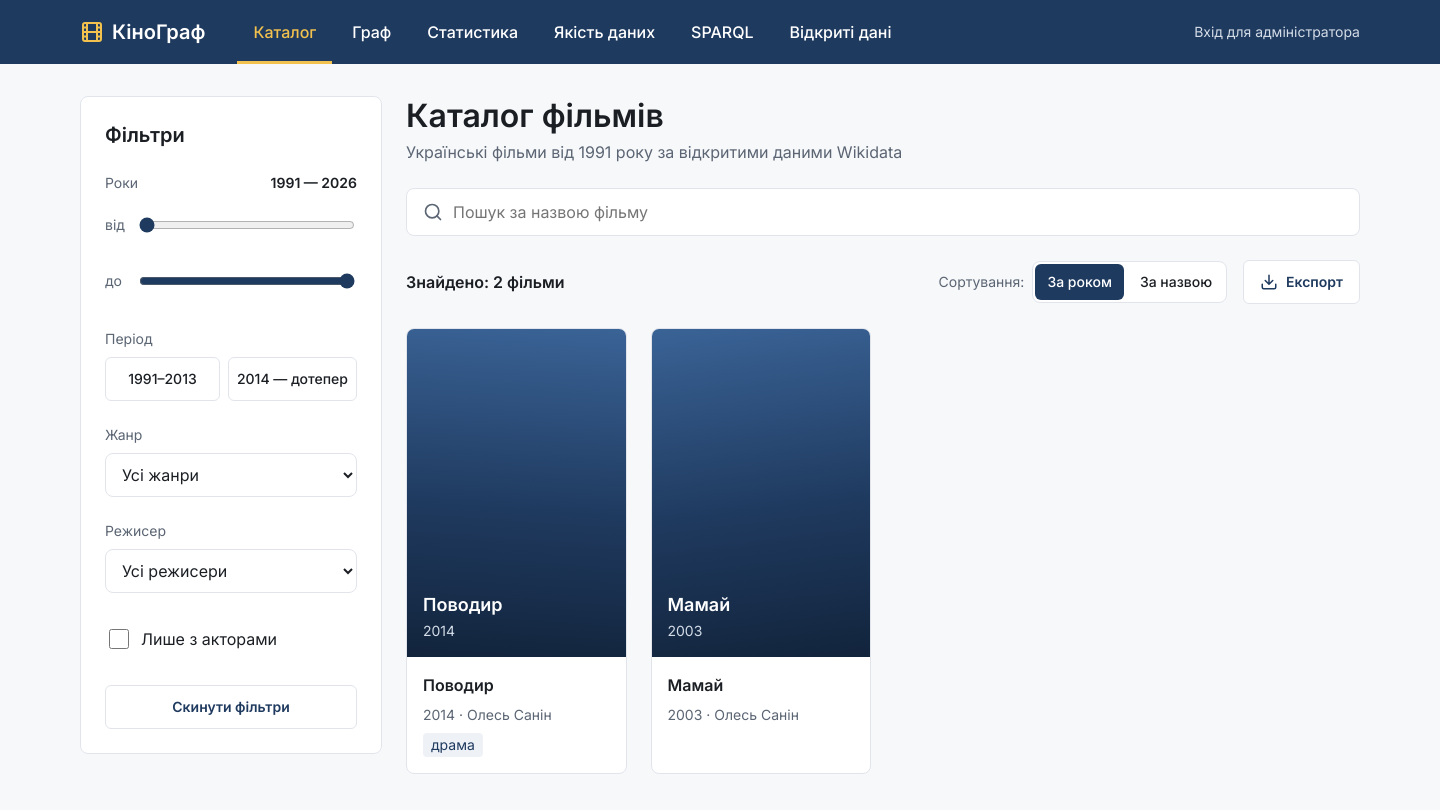
Test case: каталог › експортує результати з поточними фільтрами
The width and height of the screenshot is (1440, 810).
Click the button "Експорт" at (1302, 282), box [1243,260,1360,304]
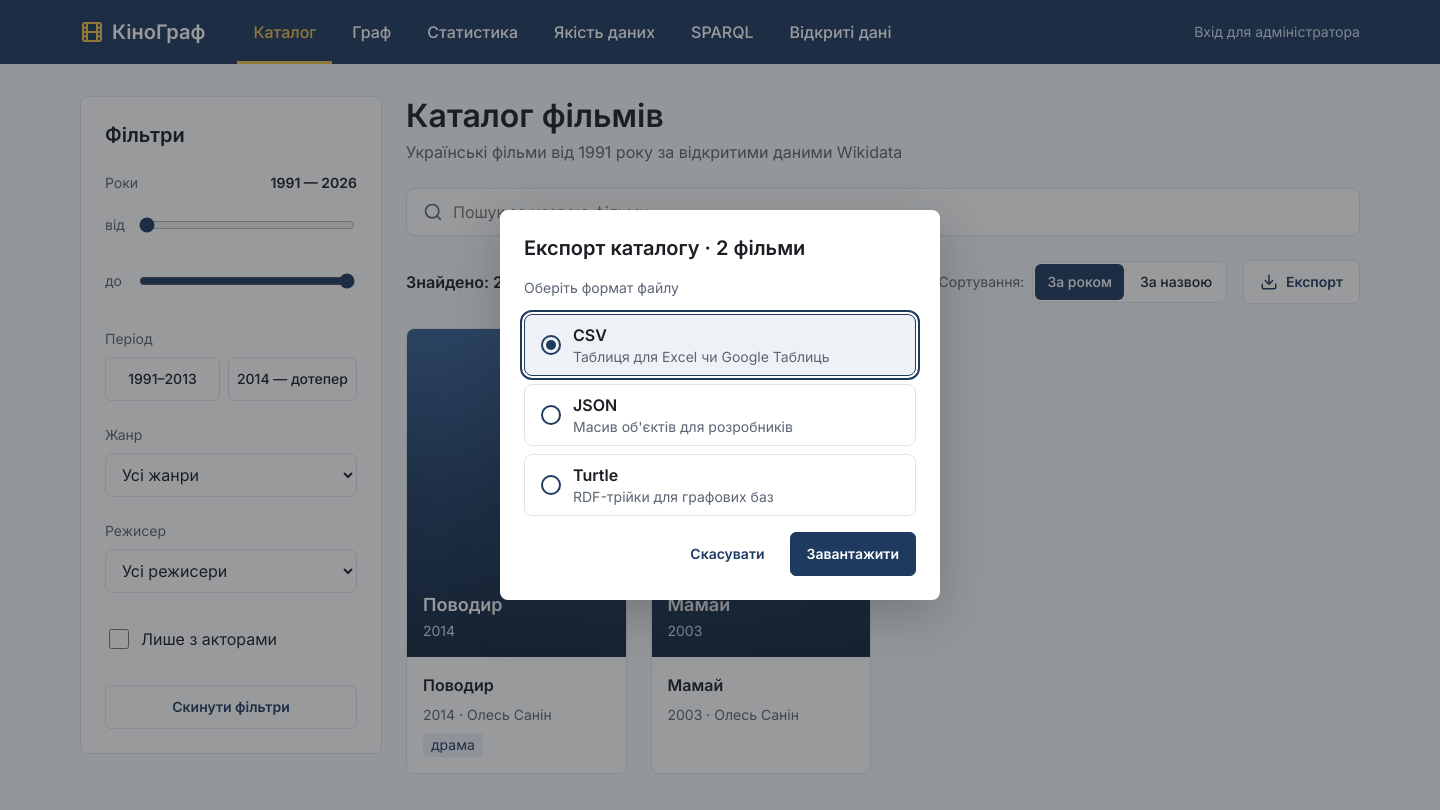
Click the radio button labelled "JSON Масив об'єктів для розробників" at (720, 415), box [524,384,916,446]
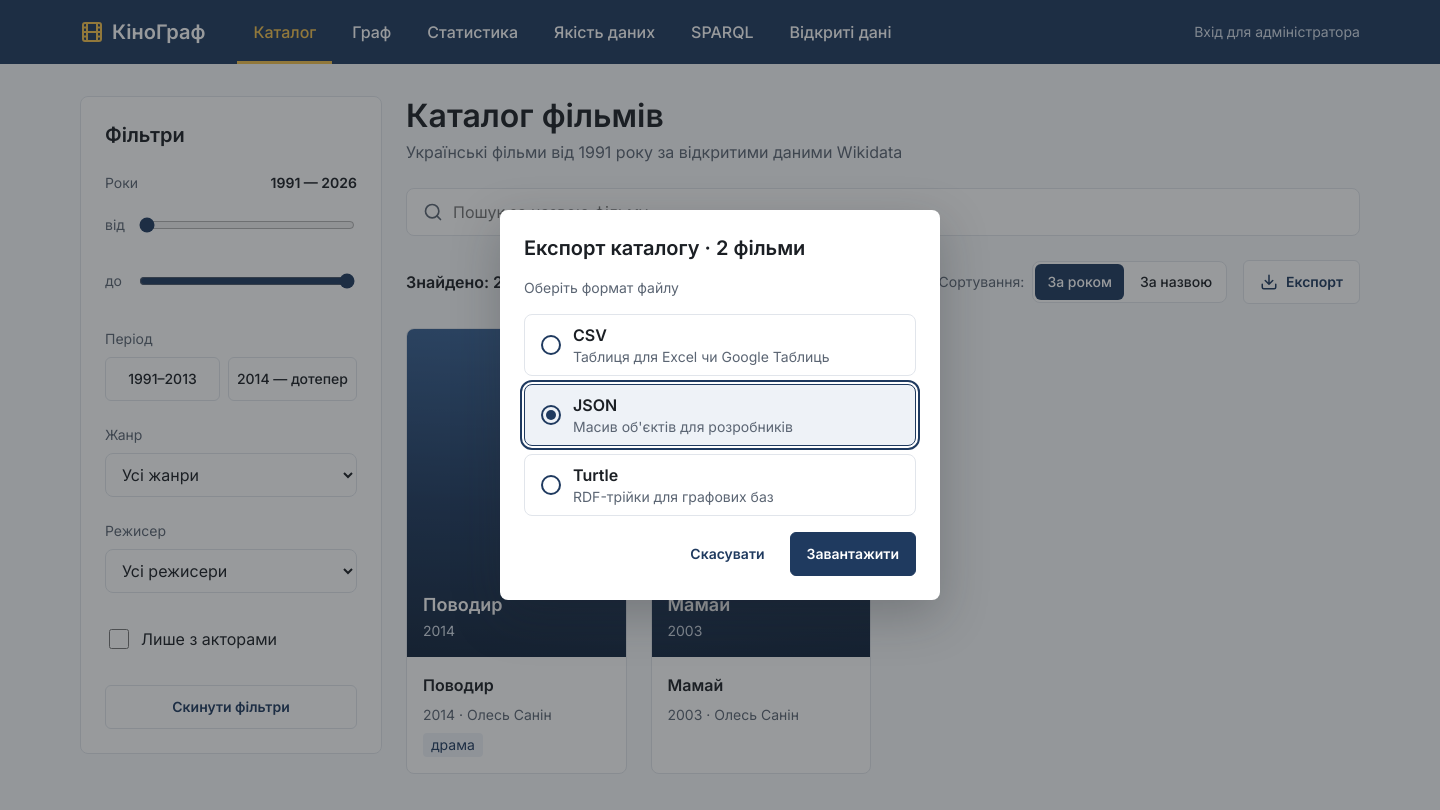
Click the button "Завантажити" at (853, 554), box [790,532,916,576]
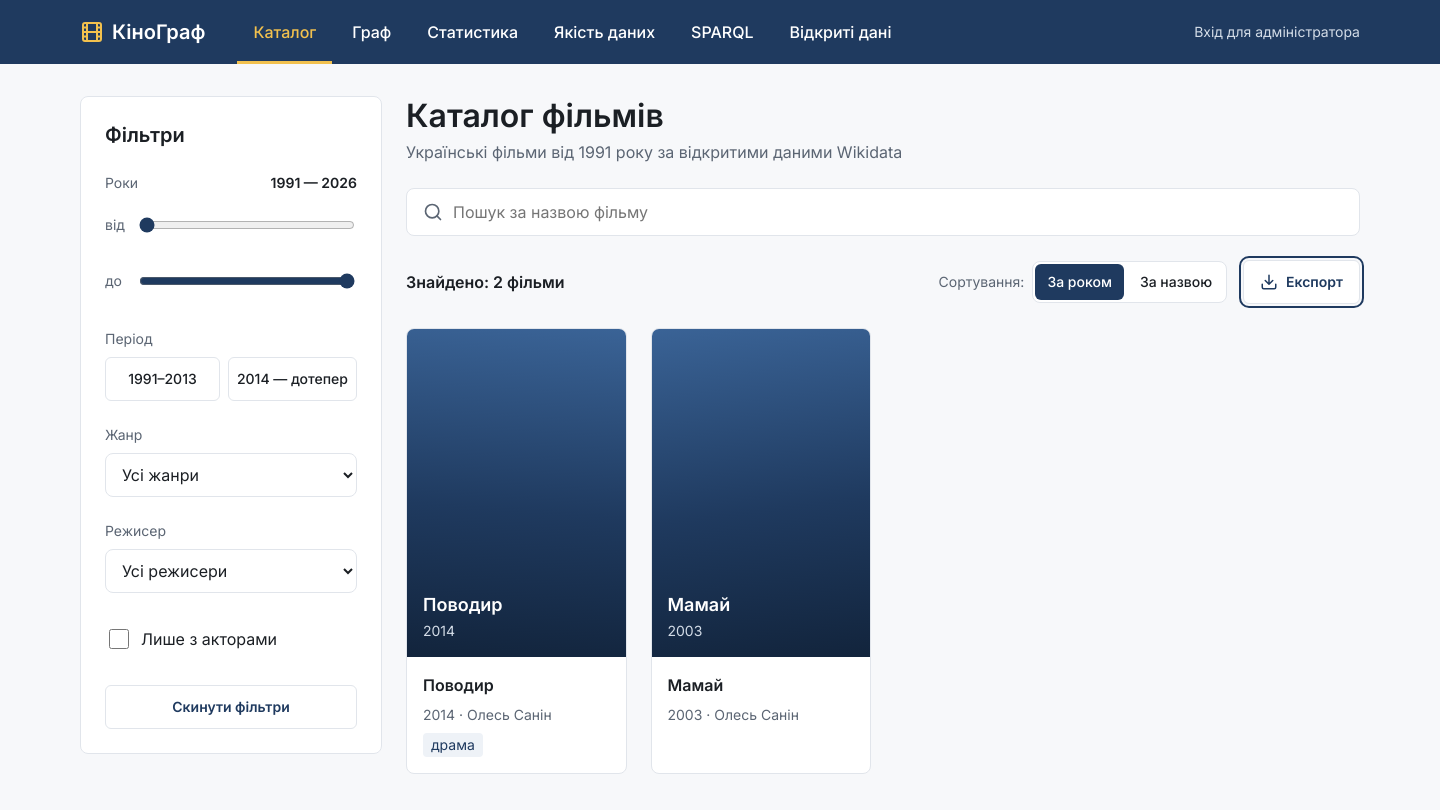
Result: the dialog is gone
